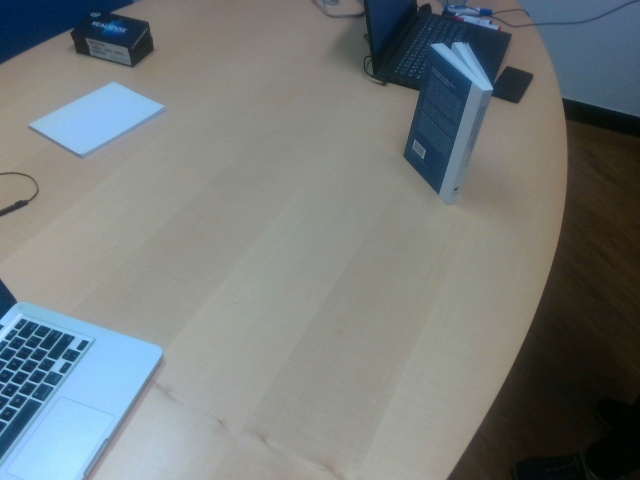book: (430, 47, 460, 203)
